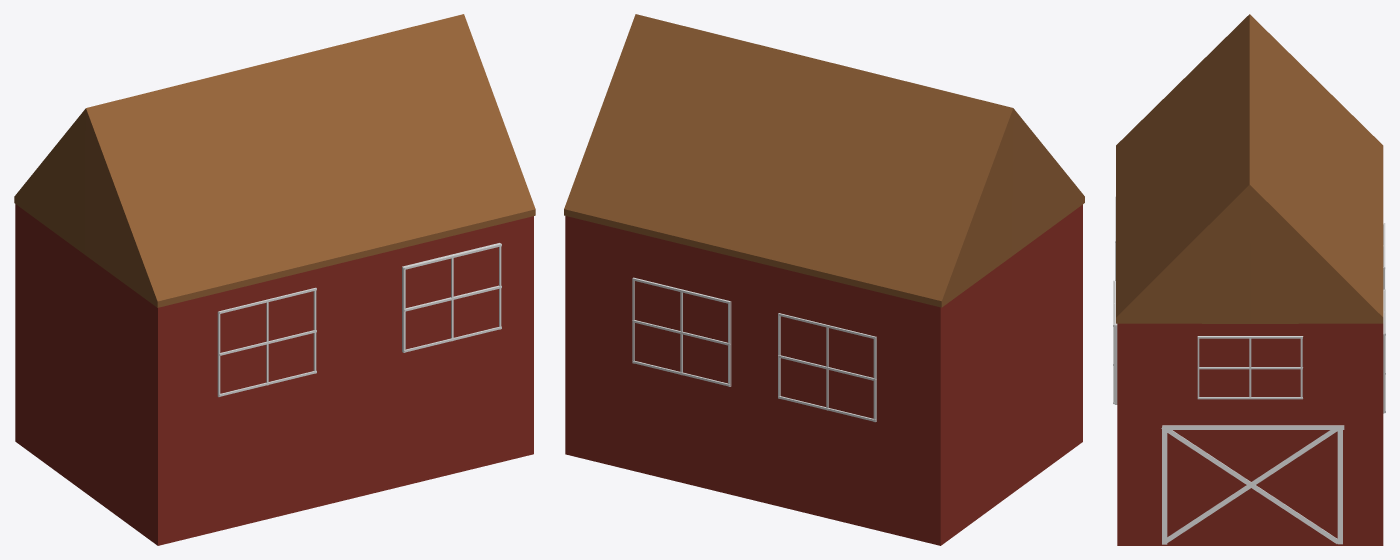
Rendered from GRANERO.fbx.
3 views of the same model, side by side, from view 1: azimuth 30°, elevation 25°; view 2: azimuth 150°, elevation 25°; view 3: azimuth 270°, elevation 25° (orthographic). The views are drawn at different scales.
Parts seen in each view (by area): view 1: Cube.005, Cube.007, Cube.011, Cube.012; view 2: Cube.005, Cube.007, Cube.008, Cube.010; view 3: Cube.007, Cube.005, Cube.017, Cube.009, Cube.011, Cube.008.
Part boxes in pixels (<box>): Cube.005: <box>15,204,533,545</box>; Cube.007: <box>14,14,535,307</box>; Cube.011: <box>402,243,501,352</box>; Cube.012: <box>217,287,316,396</box>; Cube.005: <box>565,204,1082,545</box>; Cube.007: <box>564,14,1084,307</box>; Cube.008: <box>632,277,731,386</box>; Cube.010: <box>778,313,876,422</box>; Cube.007: <box>1116,14,1383,323</box>; Cube.005: <box>1117,323,1383,545</box>; Cube.017: <box>1161,425,1344,544</box>; Cube.009: <box>1197,336,1303,399</box>; Cube.011: <box>1113,280,1117,404</box>; Cube.008: <box>1383,289,1385,413</box>.
Bounding box in the file's own units: 5192 × 5073 × 3464.
